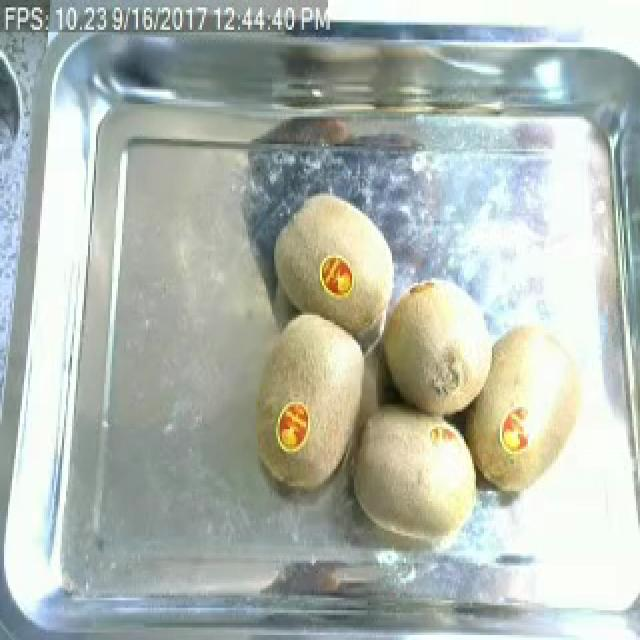Fruit: (458, 310, 602, 501), (334, 387, 490, 556), (248, 303, 376, 501), (372, 270, 500, 427), (264, 188, 388, 308)
